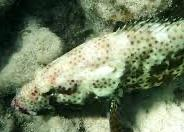Serranidae -Groupers-: (9, 0, 184, 132)
